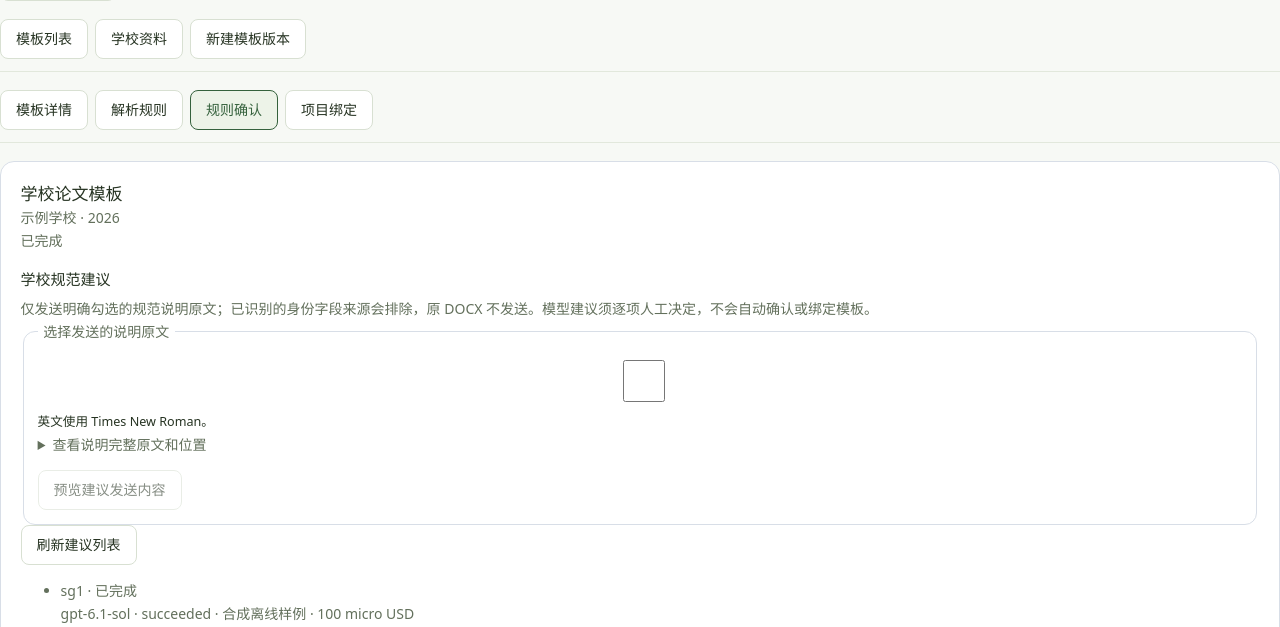
Test: requires explicit note selection and previews only frozen selected note identifiers
Expected: the button "预览建议发送内容" is disabled, [38,470,182,510]
Click the checkbox labelled "英文使用 Times New Roman。". click: coordinates (644, 381)
box: [42,360,1246,402]
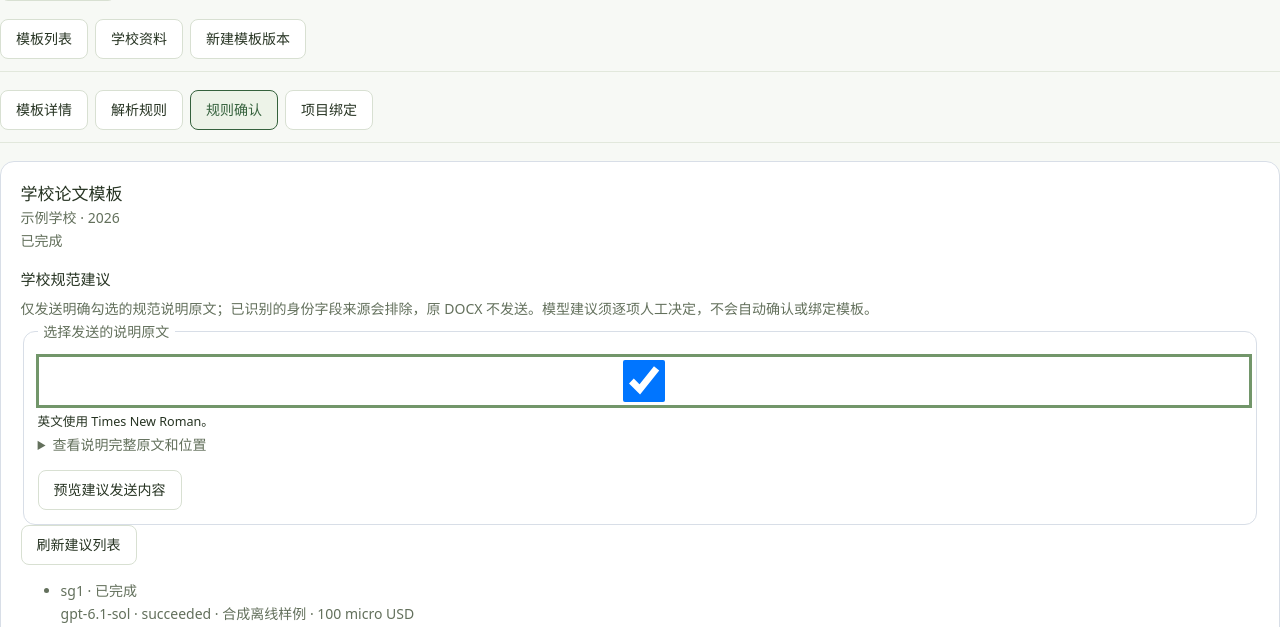
Click the button "预览建议发送内容". click: coordinates (110, 490)
box: [38,470,182,510]
(page scrolled)
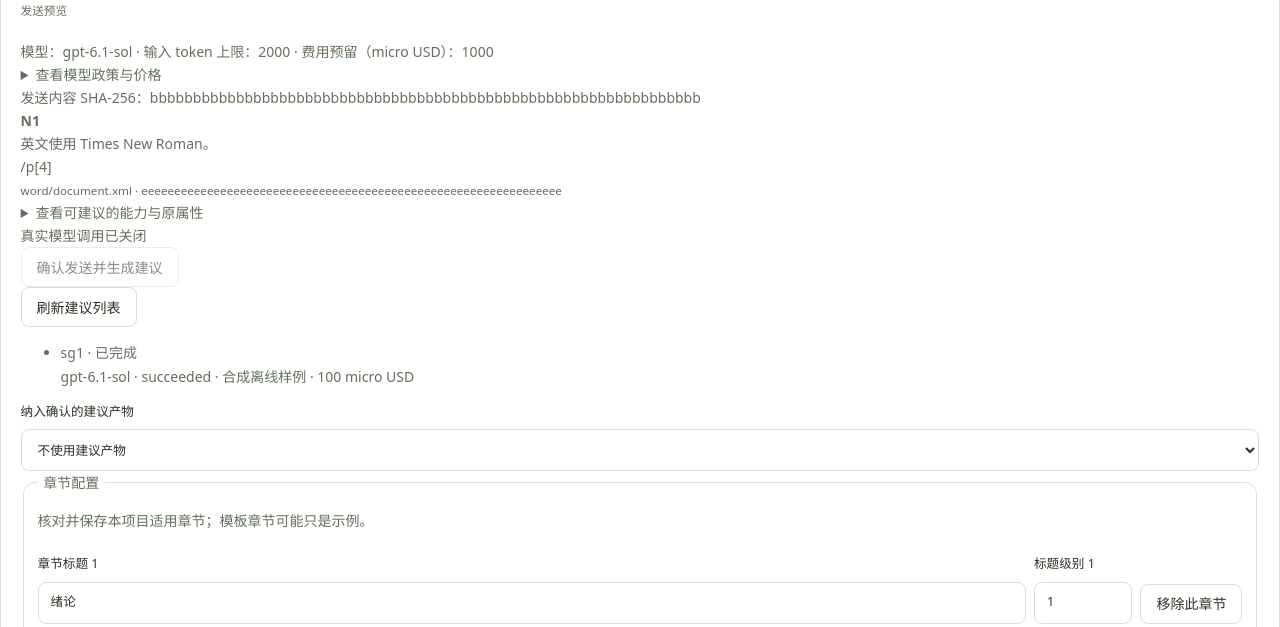
Now the text "真实模型调用已关闭" is shown, box [21,226,147,245]
Now the text "/p[4]" is shown, box [21,157,52,176]
Now the button "确认发送并生成建议" is disabled, box [21,248,179,288]
